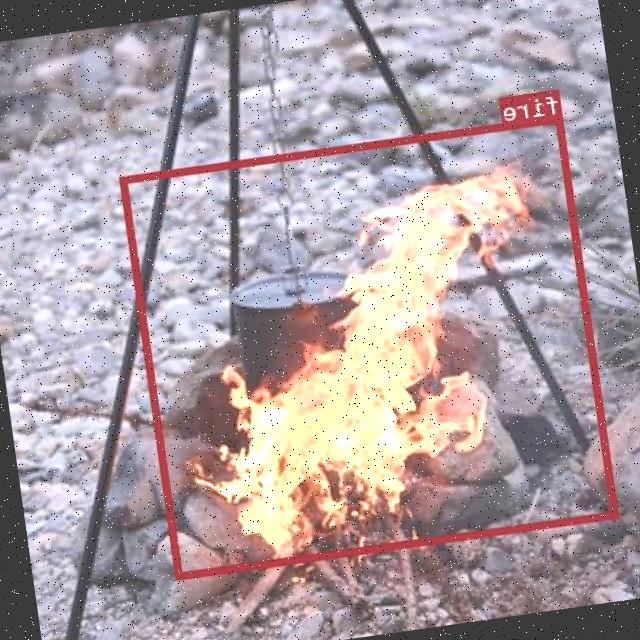fire: (121, 114, 620, 578)
